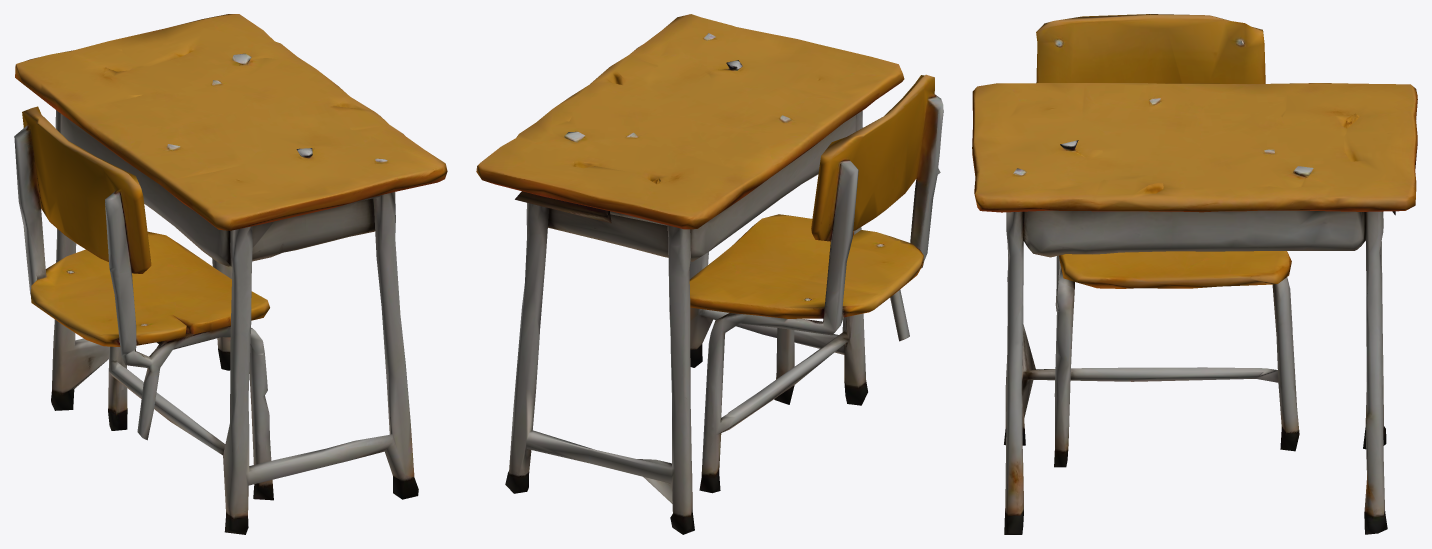
Rendered from school-desk.glb.
The picture shows the model from 3 angles, left to right: view 1: azimuth 30°, elevation 25°; view 2: azimuth 150°, elevation 25°; view 3: azimuth 270°, elevation 25°; orthographic projection. The views are drawn at different scales.
Parts seen in each view (by area): view 1: tripo_node_9550795d-e3d7-4dde-b53d-c1960b319251; view 2: tripo_node_9550795d-e3d7-4dde-b53d-c1960b319251; view 3: tripo_node_9550795d-e3d7-4dde-b53d-c1960b319251.
Part boxes in pixels (box(x1,y1,x2,y2)): tripo_node_9550795d-e3d7-4dde-b53d-c1960b319251: box(14, 14, 447, 534); tripo_node_9550795d-e3d7-4dde-b53d-c1960b319251: box(476, 14, 943, 534); tripo_node_9550795d-e3d7-4dde-b53d-c1960b319251: box(972, 14, 1417, 534).
Size of the model in its own units: 0.8231 by 0.9426 by 1.
Materials: 1 (1 with a texture image).
